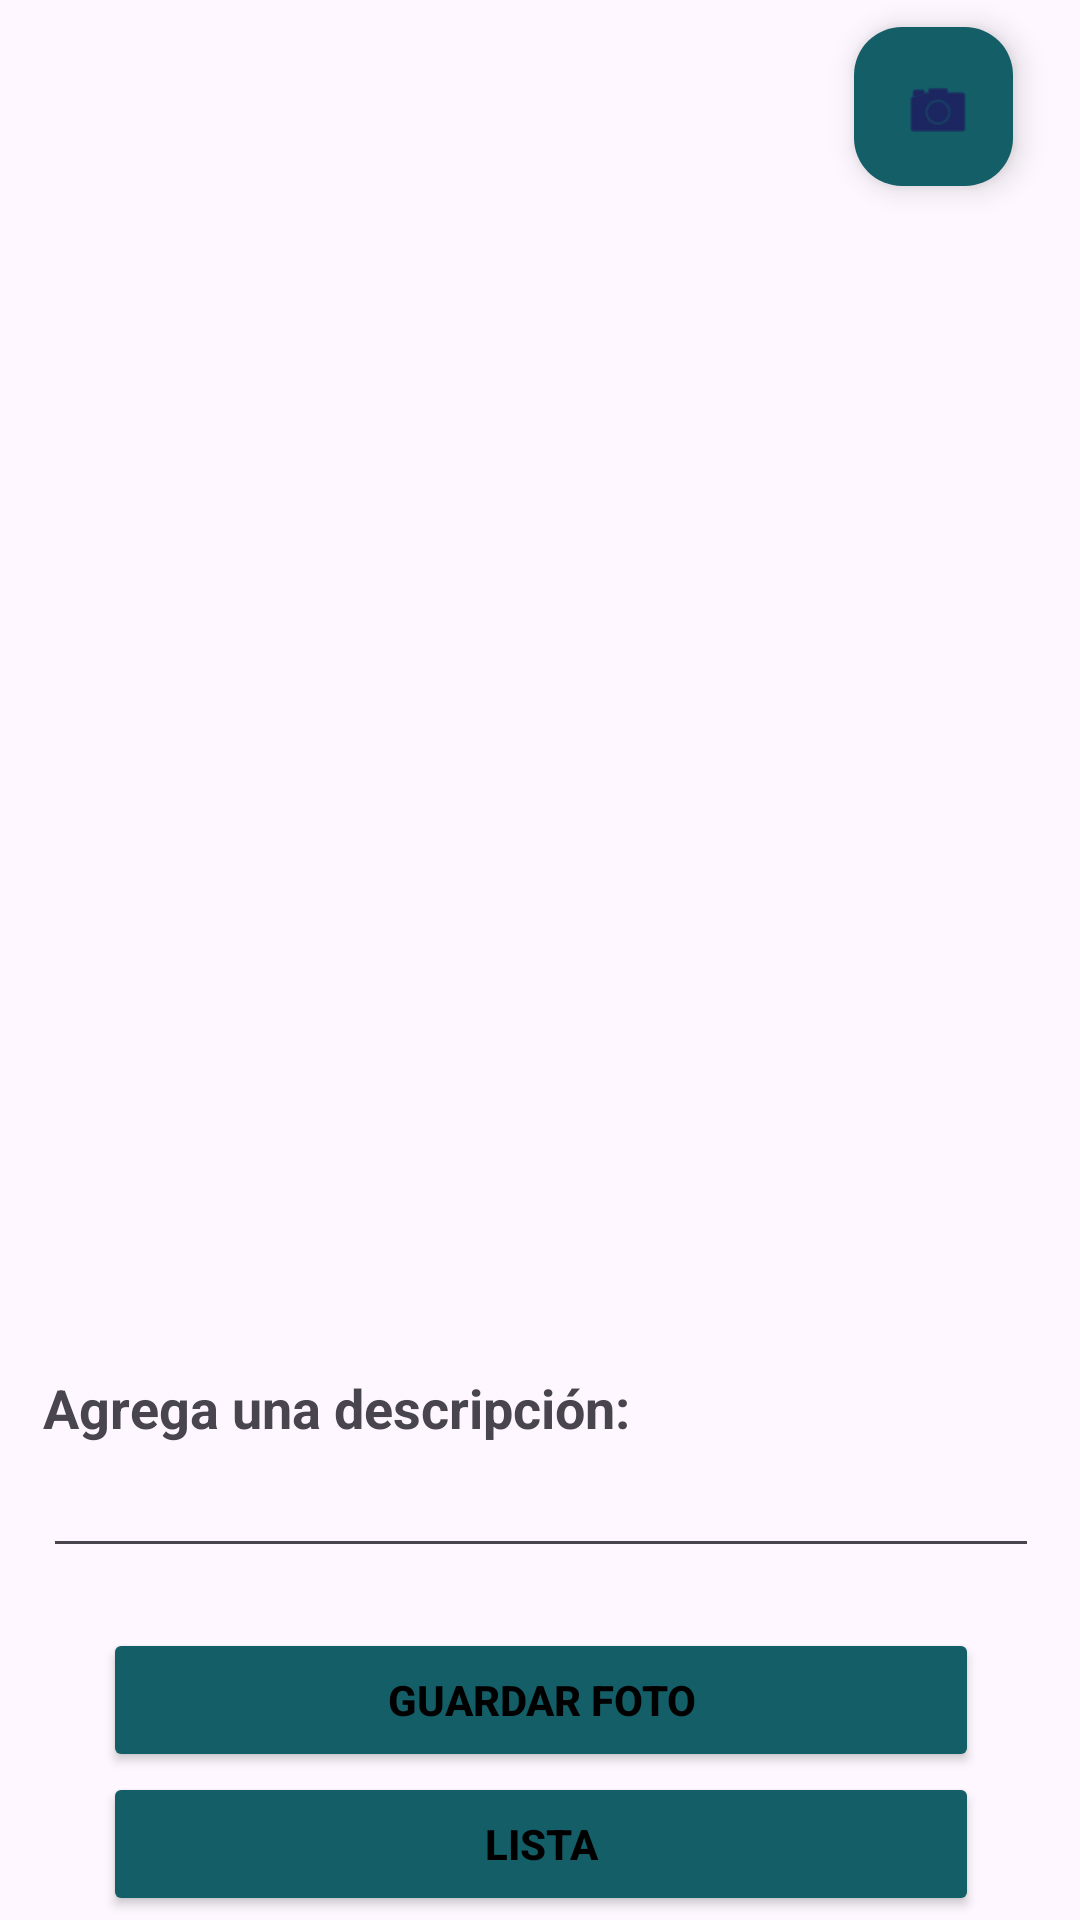

Icons on this 1080px x 1920px Android screen, each with its box as {"left": x1, "top": y1, "right": x2, "bottom": y2}:
camera: {"left": 854, "top": 27, "right": 1013, "bottom": 186}
